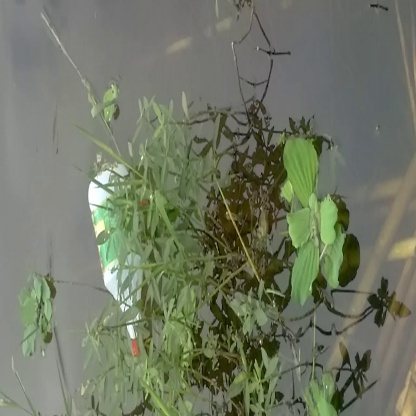bottle: (85, 169, 167, 357)
